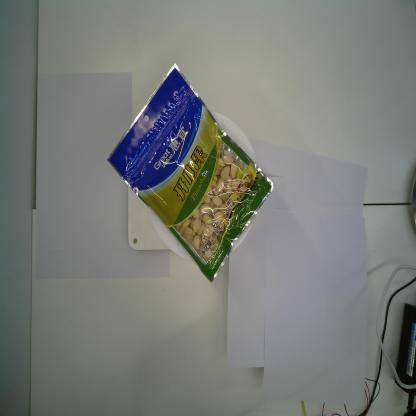Dried Fruit: (105, 62, 277, 285)
